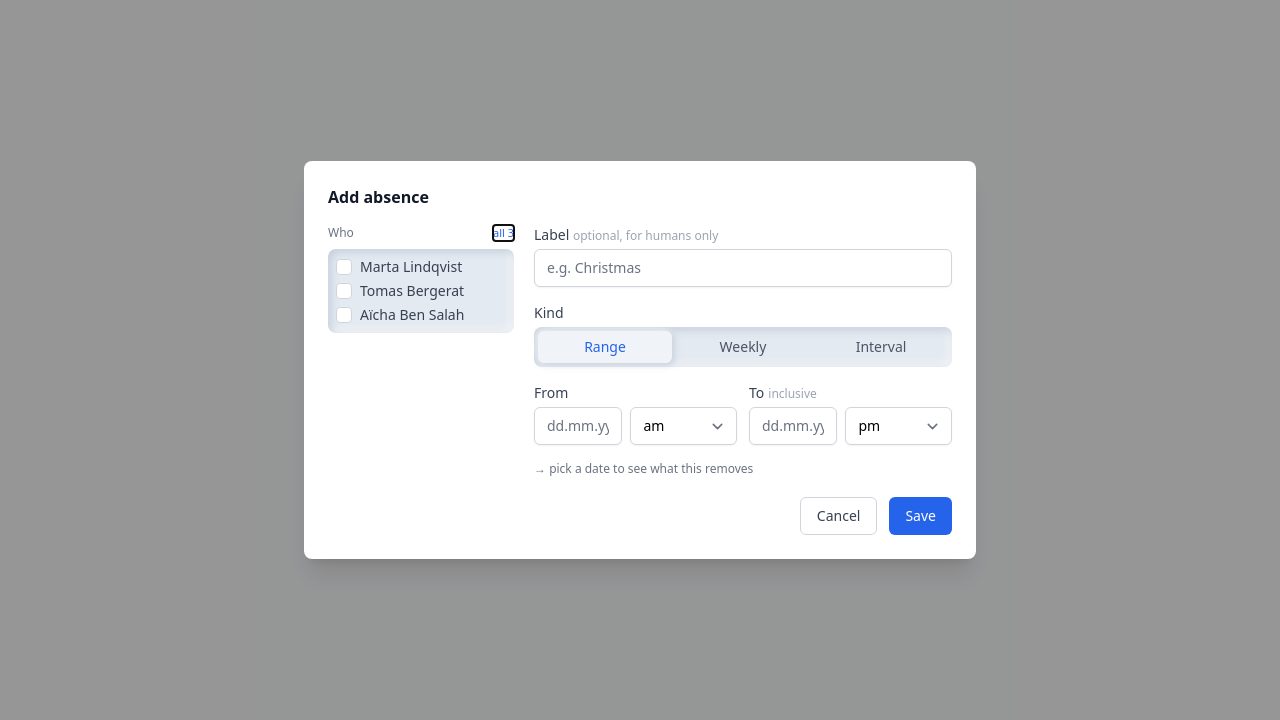
Scenario: AbsenceDialog › refuses to save with nobody chosen
Click the button "Save".
click(921, 516)  # box [889,497,952,535]
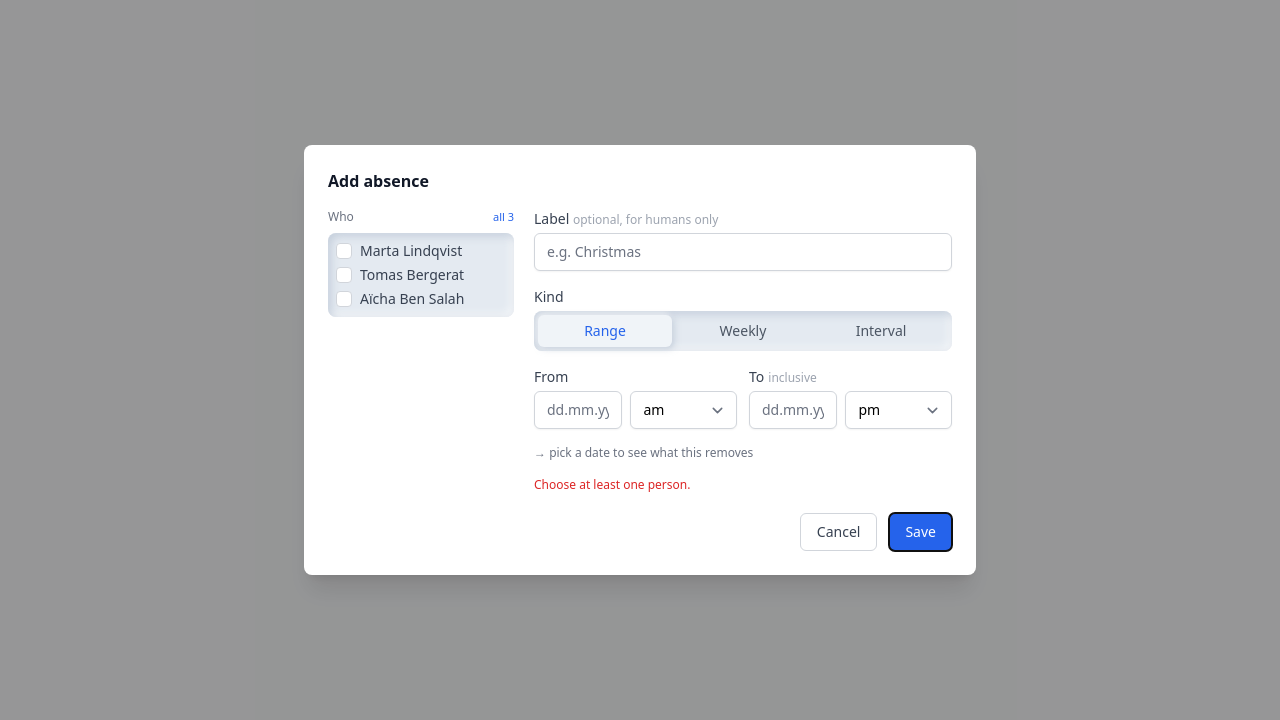
expect the message shows "at least one person": met, box [534,476,690,493]
